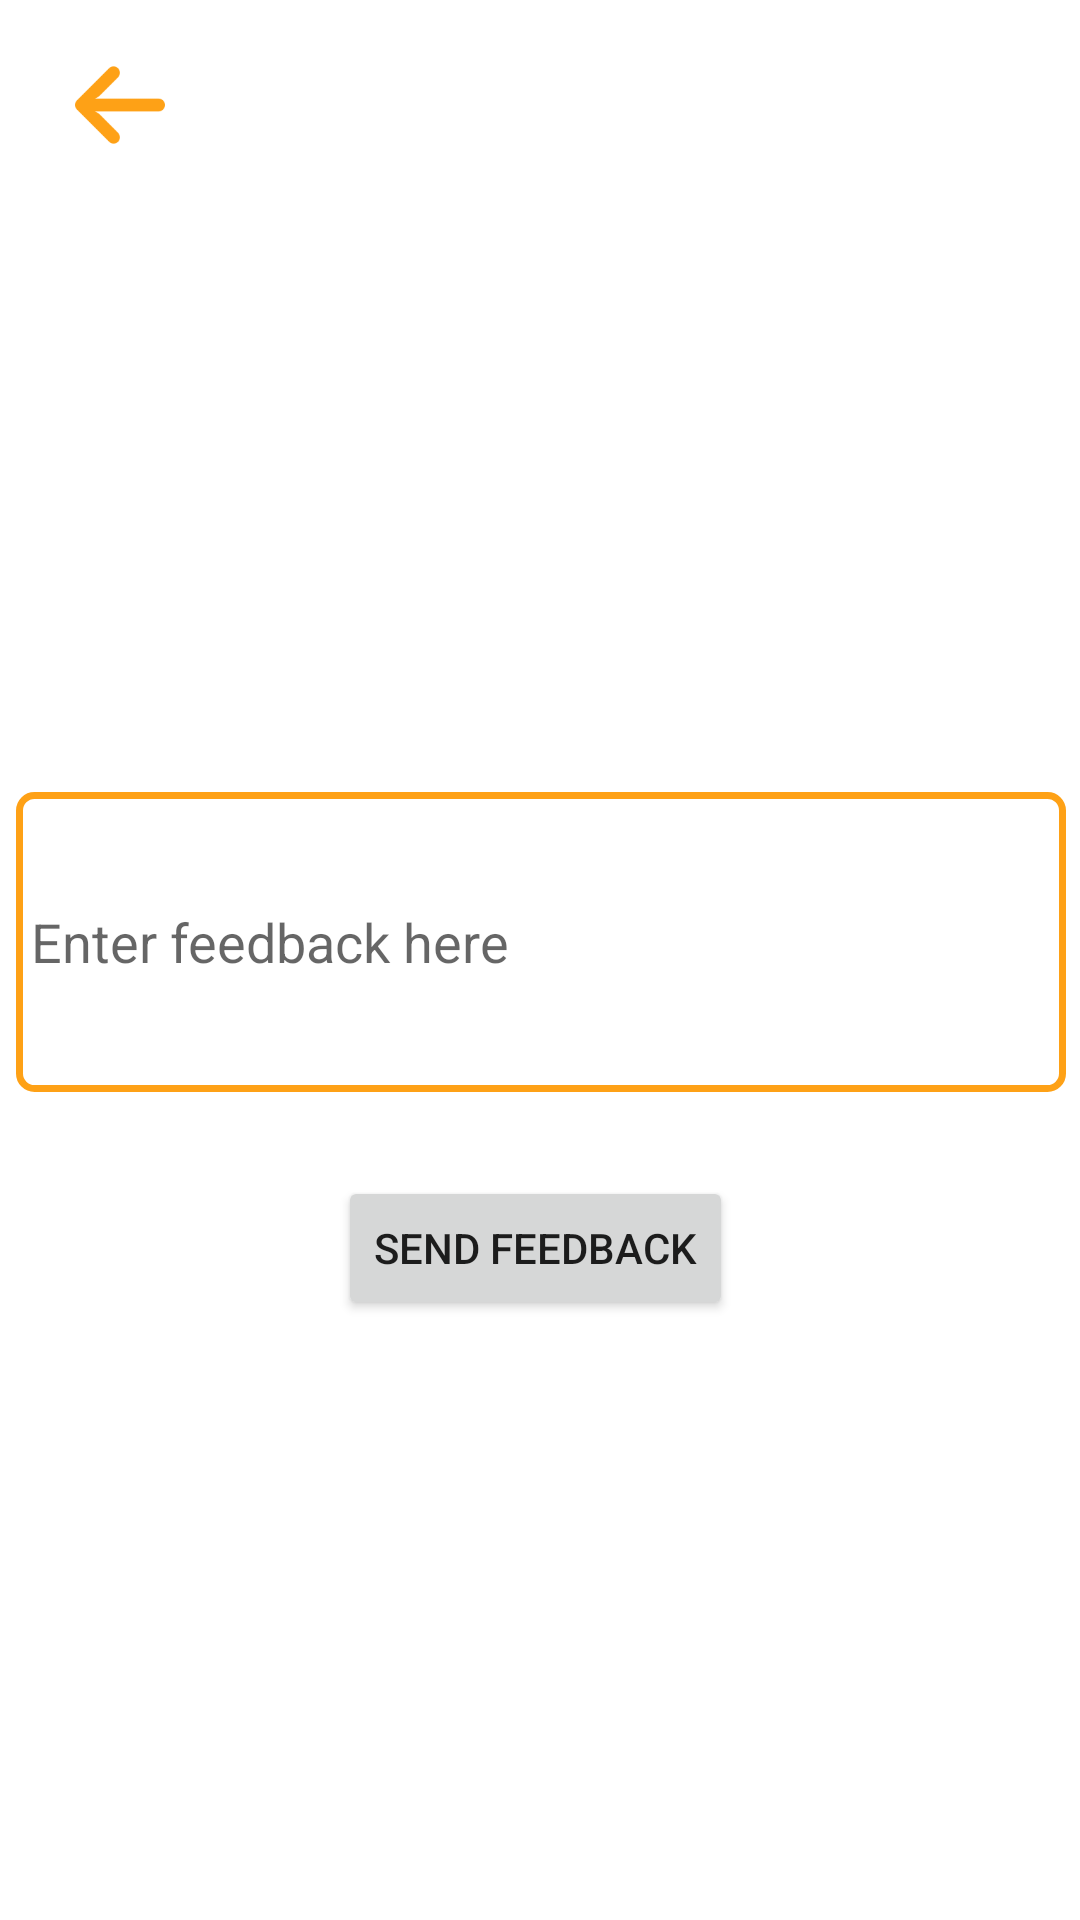

Icon bounding boxes for this 1080px×1920px phone screenshot, format (x1, y1, x2, y2):
arrow: (75, 66, 165, 144)
